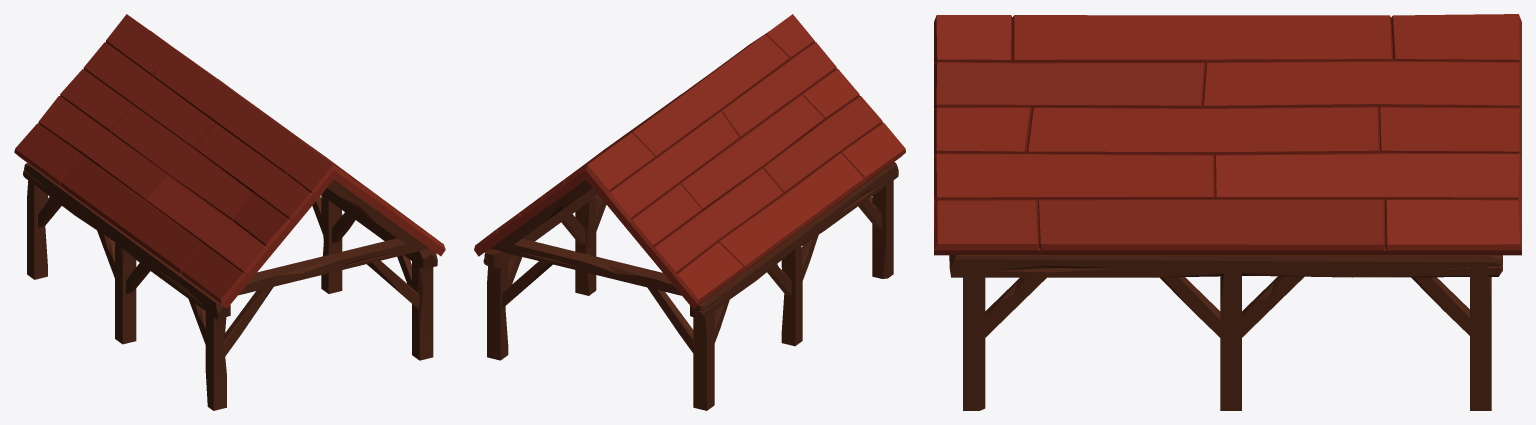
Rendered from Shed2.fbx.
3 renders of one model, left to right at view 1: azimuth 30°, elevation 25°; view 2: azimuth 150°, elevation 25°; view 3: azimuth 270°, elevation 25°, orthographic. The views are drawn at different scales.
Visible parts, largest first — view 1: Shed2; view 2: Shed2; view 3: Shed2.
Boxes of the visible parts, x1,y1,x2,y2 form: Shed2: (14, 14, 445, 410); Shed2: (474, 14, 905, 410); Shed2: (934, 14, 1521, 410).
Bounding box in the file's own units: 123 × 119 × 197.
